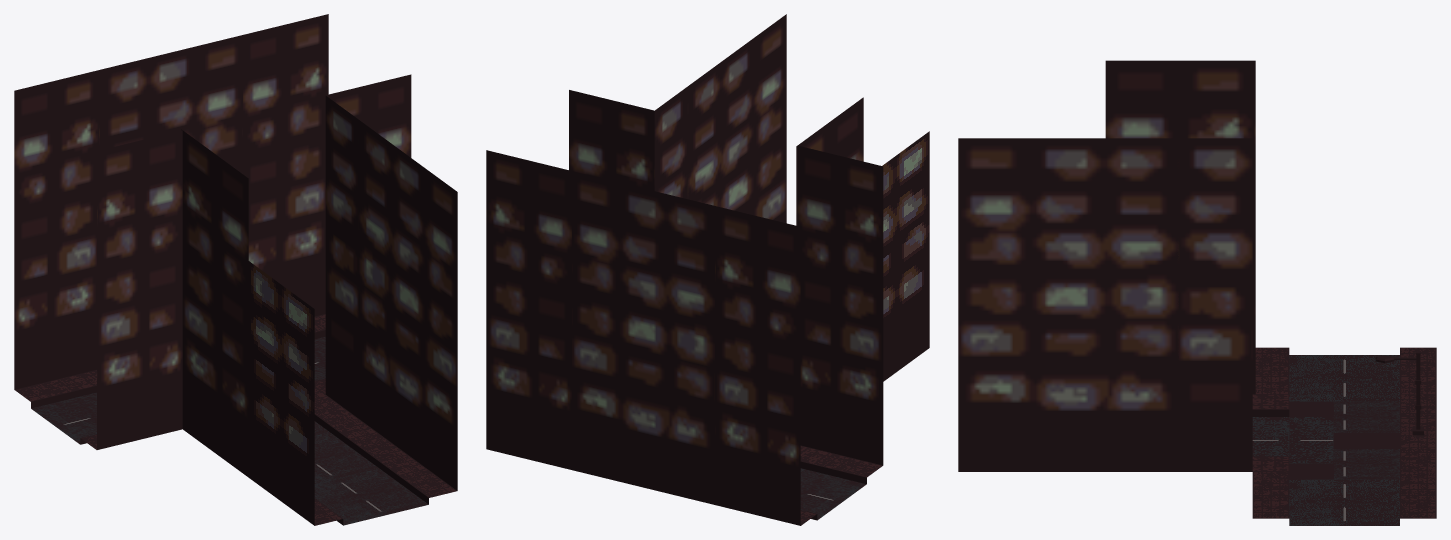
The model's file is T_Turn.fbx.
3 renders of one model, left to right at view 1: azimuth 30°, elevation 25°; view 2: azimuth 150°, elevation 25°; view 3: azimuth 270°, elevation 25°, orthographic. The views are drawn at different scales.
Visible parts, largest first — view 1: pPlane48, pPlane37, pPlane41, pPlane43, pPlane35, pPlane36, pPlane42, pPlane49, Road, pPlane50, Road1, Road5 (+4 smaller); view 2: pPlane42, pPlane41, pPlane43, pPlane37, pPlane48, pPlane36, pPlane50, pPlane49, pPlane35, Road5, pPlane11; view 3: pPlane48, pPlane49, pPlane35, Road12, Road5, Road4, Road7, Road10, pPlane46, pPlane40, pPlane11, pPlane39 (+9 smaller).
Boxes of the visible parts, x1,y1,x2,y2 form: pPlane48: [358, 120, 457, 490]; pPlane37: [97, 130, 182, 449]; pPlane41: [14, 70, 99, 389]; pPlane43: [243, 14, 328, 316]; pPlane35: [181, 129, 248, 477]; pPlane36: [248, 261, 314, 525]; pPlane42: [100, 35, 242, 173]; pPlane49: [325, 96, 359, 418]; Road: [314, 468, 428, 525]; pPlane50: [326, 74, 411, 157]; Road1: [314, 432, 379, 483]; Road5: [31, 392, 96, 444]; pPlane42: [572, 171, 714, 504]; pPlane41: [715, 206, 800, 525]; pPlane43: [486, 150, 571, 469]; pPlane37: [797, 145, 883, 465]; pPlane48: [688, 14, 786, 223]; pPlane36: [882, 131, 929, 381]; pPlane50: [569, 90, 654, 190]; pPlane49: [654, 86, 688, 199]; pPlane35: [796, 97, 863, 225]; Road5: [800, 468, 866, 520]; pPlane11: [800, 445, 882, 477]; pPlane48: [958, 138, 1178, 471]; pPlane49: [1177, 138, 1252, 471]; pPlane35: [1105, 60, 1255, 394]; Road12: [1289, 479, 1399, 525]; Road5: [1289, 355, 1399, 401]; Road4: [1333, 401, 1399, 432]; Road7: [1289, 417, 1333, 463]; Road10: [1333, 449, 1399, 479]; pPlane46: [1252, 472, 1289, 518]; pPlane40: [1400, 472, 1436, 518]; pPlane11: [1255, 347, 1289, 394]; pPlane39: [1400, 347, 1436, 394].
Size of the model in its own units: 22 by 20.44 by 26.
8 materials, 8 textured.
